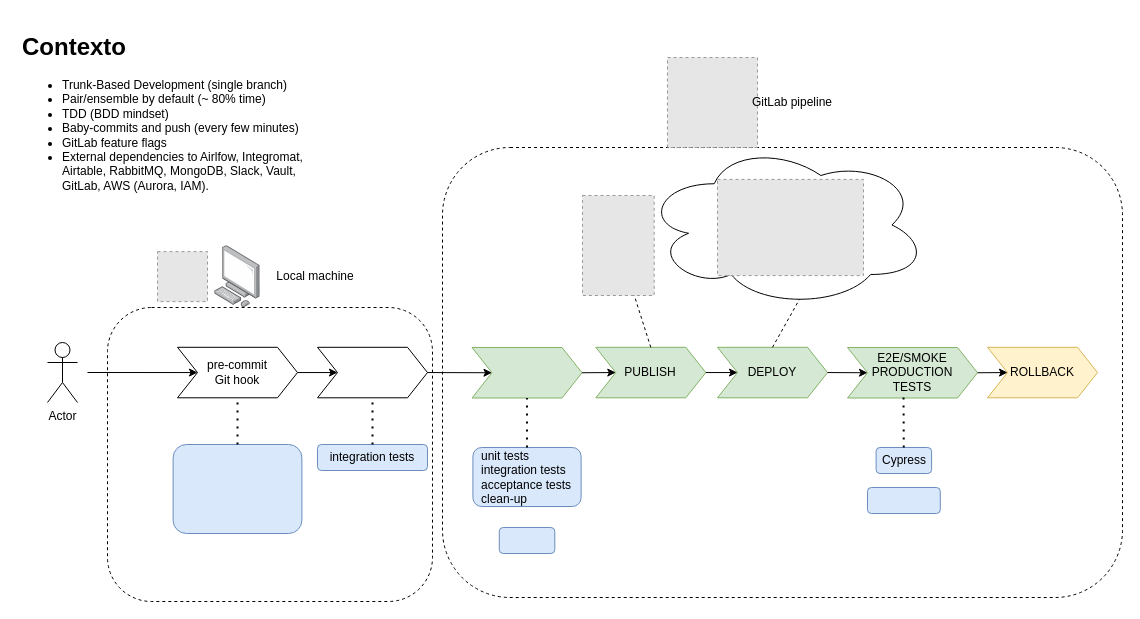
This 1140x619 diagram has some shape labels left out. Grey dashed boxes stand in for pictures. The shapes that lost their labels are listed below. From the top down, each one's centre as x and y in pixels, then its label:
[372,372]: pre-push Git hook
[526,372]: TEST
[237,489]: format typing Helm validation Dockerfile validation uni tests
[903,500]: HTTP API
[526,540]: lint
